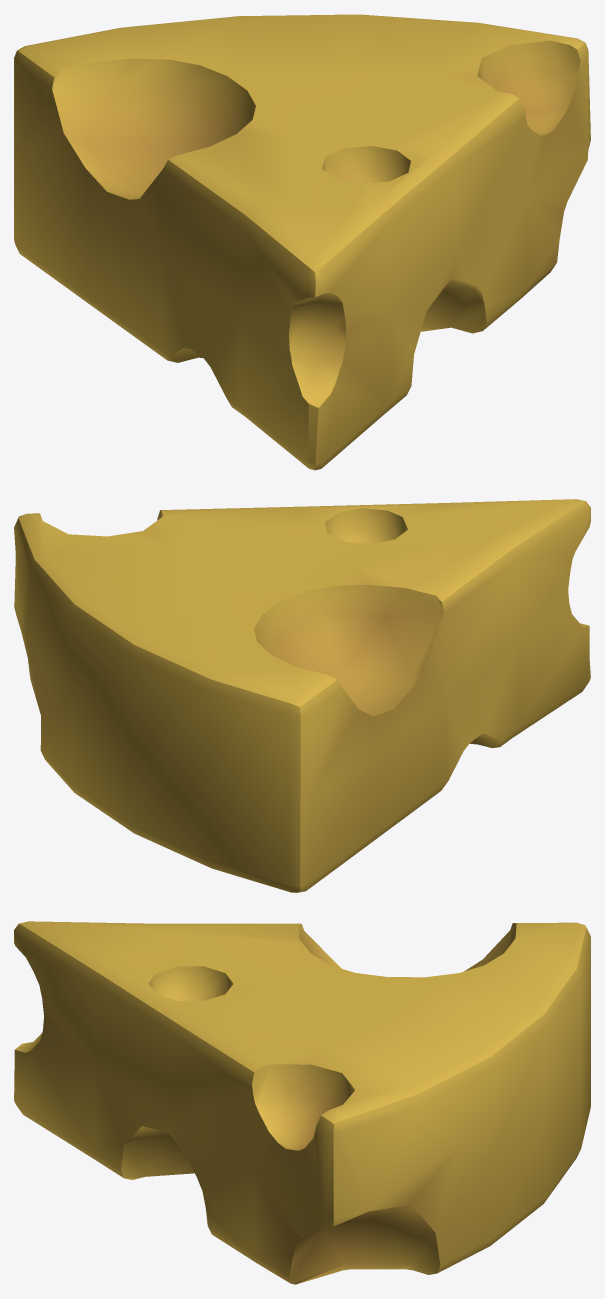
The model's file is cheese.glb.
The picture shows the model from 3 angles, top to bottom: view 1: azimuth 30°, elevation 25°; view 2: azimuth 150°, elevation 25°; view 3: azimuth 270°, elevation 25°; orthographic projection. The views are drawn at different scales.
Visible parts, largest first — view 1: Cheese; view 2: Cheese; view 3: Cheese.
Boxes of the visible parts, left/top/right/bottom form: Cheese: left=14, top=14, right=590, bottom=470; Cheese: left=14, top=499, right=590, bottom=892; Cheese: left=14, top=921, right=590, bottom=1284.
Bounding box in the file's own units: 0.2599 × 0.1185 × 0.3087.
